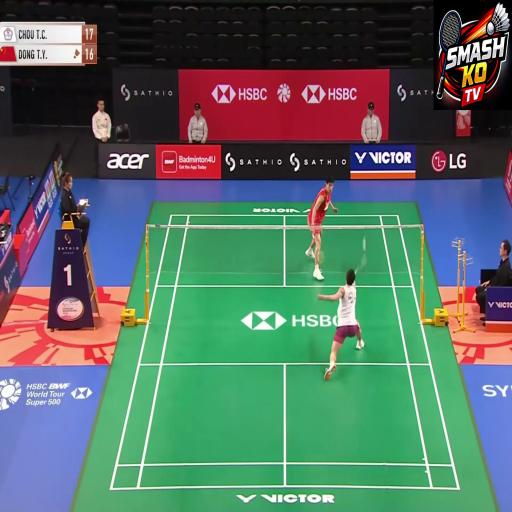player: (331, 259, 368, 390), (295, 164, 332, 287)
